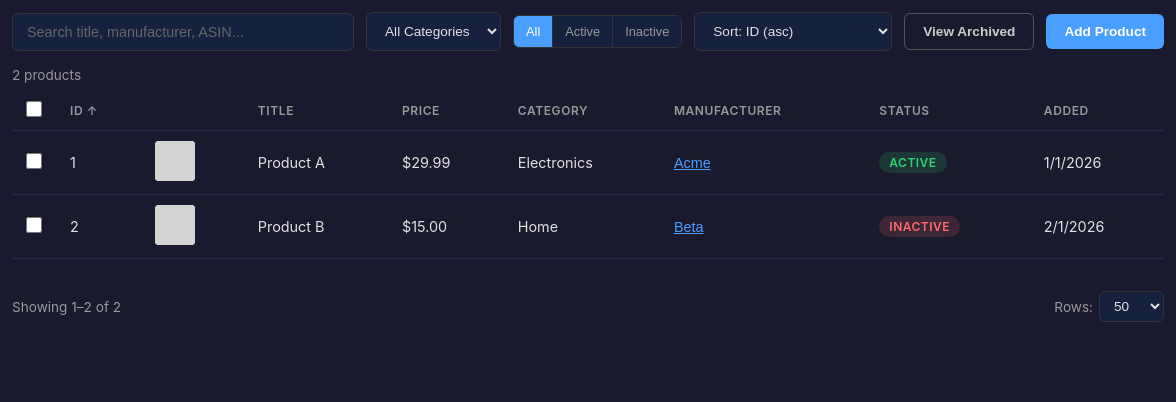
Test case: AdminProductsPage › clicking select-all shows bulk action bar
This screenshot has width=1176, height=402.
Click the checkbox with test id "select-all" at coordinates (34, 109), box [26,101,42,117]
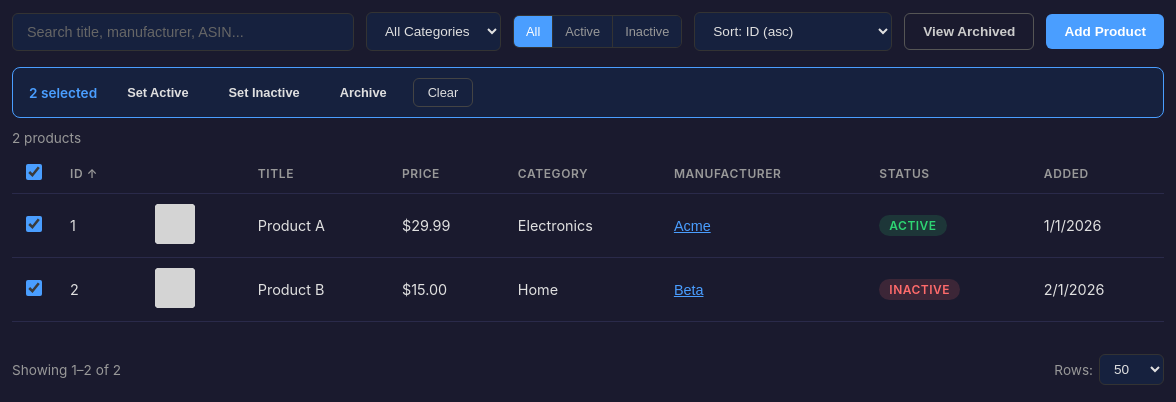
Result: the element with test id "bulk-action-bar" is shown at [12,67,1164,118]
Result: the text with test id "bulk-count" reads "2 selected" at [29,84,97,100]
